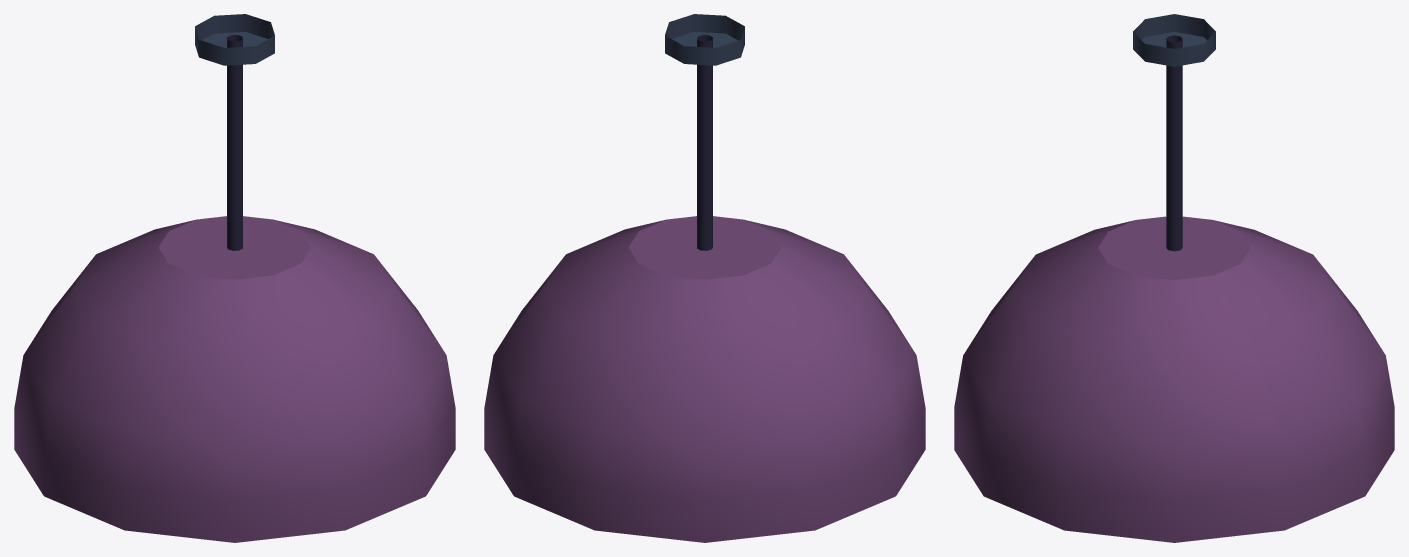
File: Ceiling_Light.fbx
The picture shows the model from 3 angles, left to right: view 1: azimuth 30°, elevation 25°; view 2: azimuth 150°, elevation 25°; view 3: azimuth 270°, elevation 25°; orthographic projection.
Parts seen in each view (by area): view 1: Light_Body; view 2: Light_Body; view 3: Light_Body.
Boxes of the visible parts, <box> form: Light_Body: <box>14,14,455,542</box>; Light_Body: <box>484,14,925,542</box>; Light_Body: <box>954,14,1394,542</box>.
Bounding box in the file's own units: 0.02 × 0.021 × 0.02.
